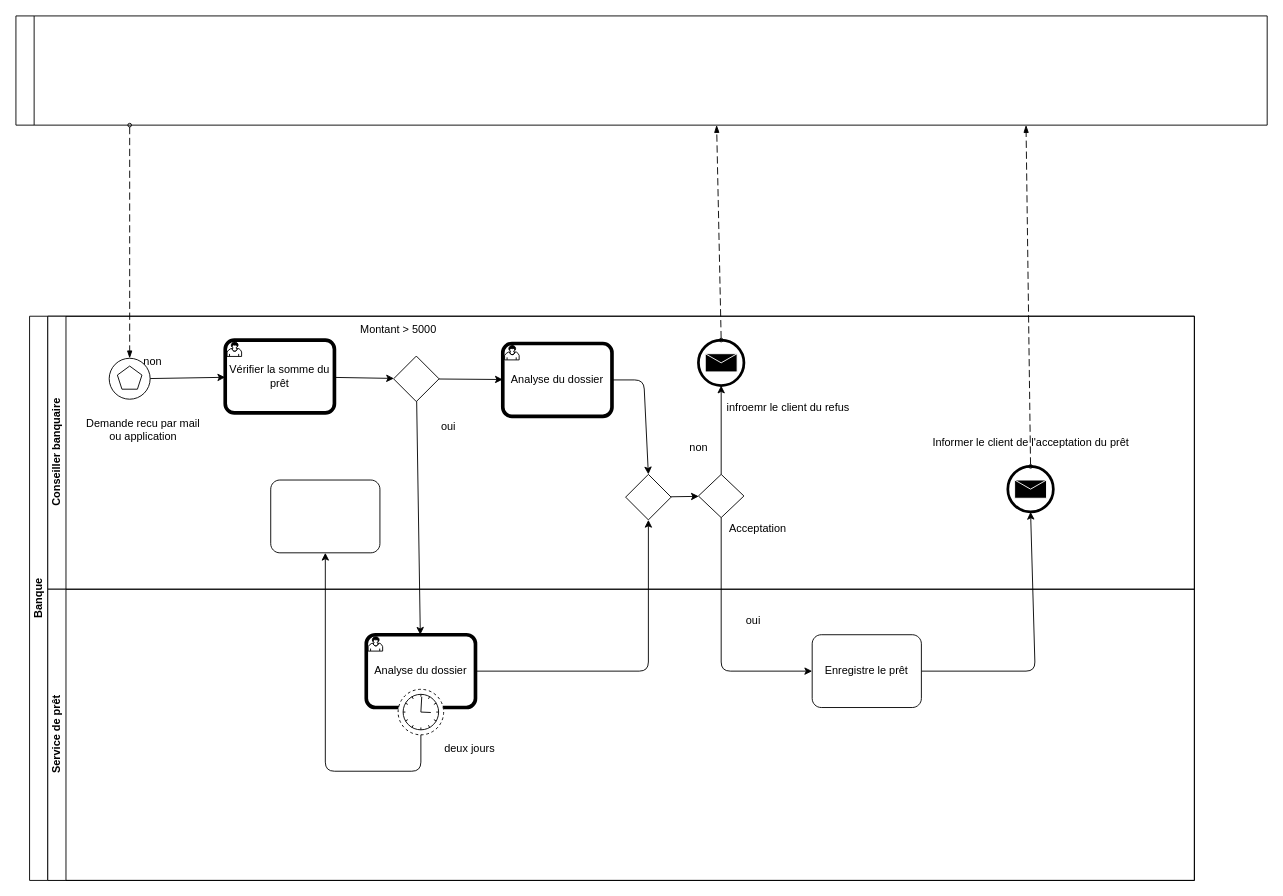
This 1283x896 diagram has some shape labels left out. The shapes that lost their labels are listed below. From the top down, each one's centre as x and y in pixels, then its label:
At point (641, 70): "Client".
At point (325, 516): "Relancer le service de prêt".
